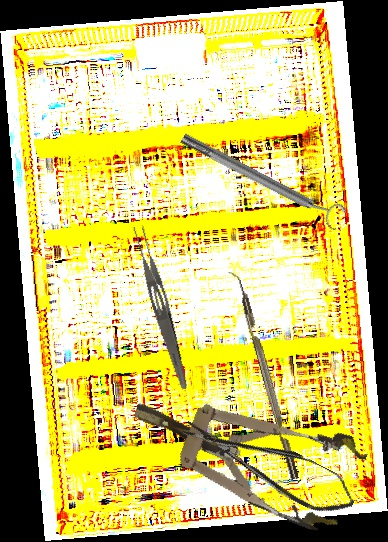Chopper: (225, 268, 299, 483)
Dressing Forceps: (128, 223, 196, 391)
Fixation Ring: (176, 123, 348, 234)
Micro Scissor: (178, 402, 362, 526)
Speculum: (118, 360, 372, 540)
